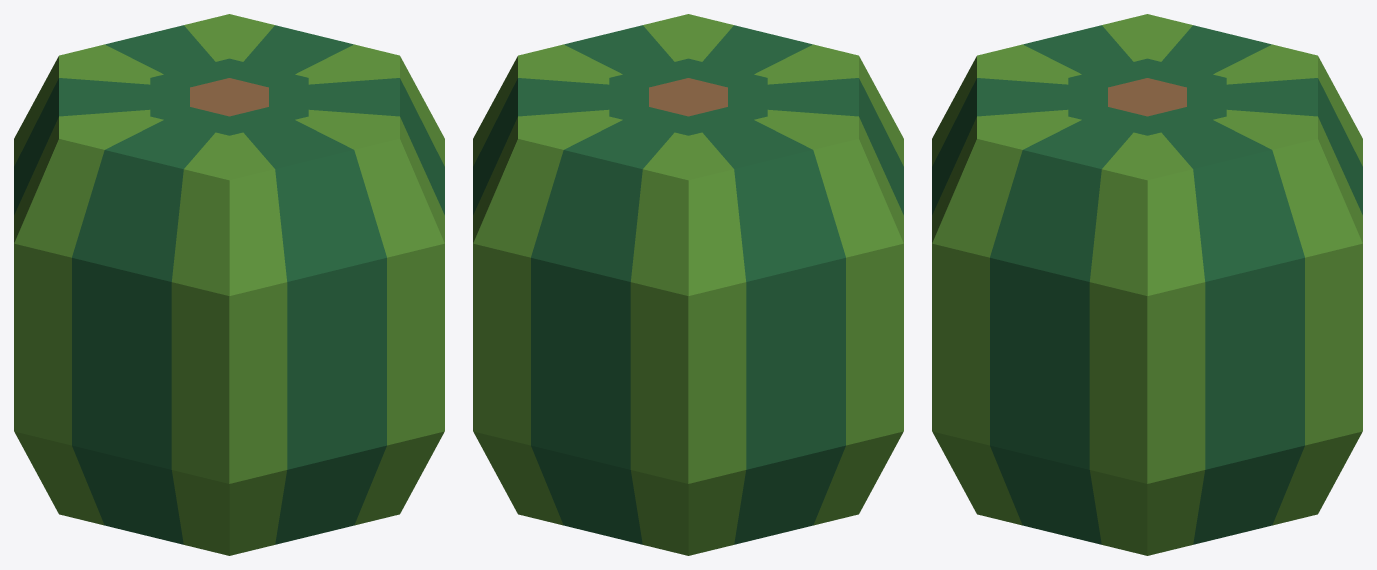
Rendered from crop_melon.glb.
3 renders of one model, left to right at view 1: azimuth 30°, elevation 25°; view 2: azimuth 150°, elevation 25°; view 3: azimuth 270°, elevation 25°, orthographic.
Visible parts, largest first — view 1: crop_melon; view 2: crop_melon; view 3: crop_melon.
Boxes of the visible parts, <box> form: crop_melon: <box>14,14,444,555</box>; crop_melon: <box>473,14,903,555</box>; crop_melon: <box>932,14,1362,555</box>.
Size of the model in its own units: 0.4176 by 0.348 by 0.3617.
